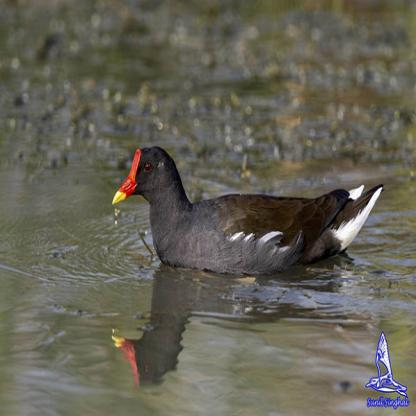Burung: (112, 146, 383, 275)
